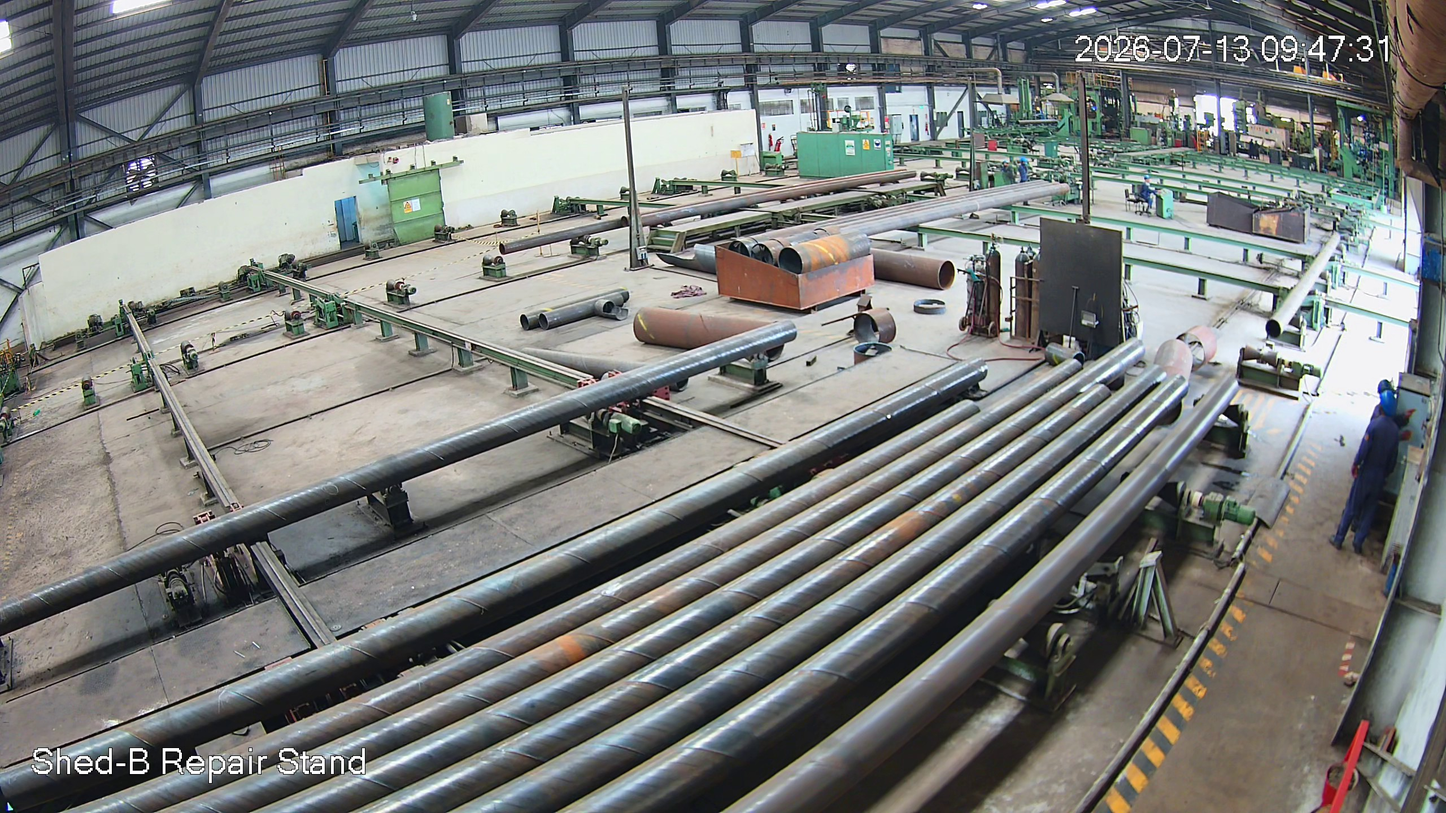Helmet: (1370, 388, 1402, 426)
Person: (1331, 393, 1405, 557)
